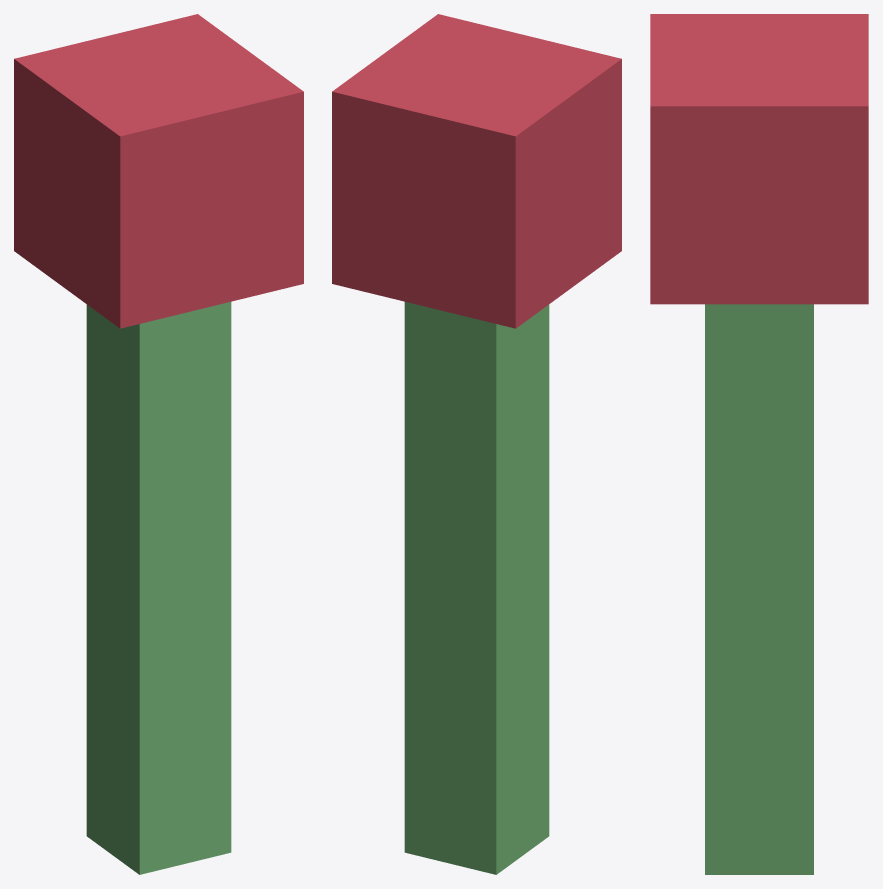
File: flower_1.glb
3 renders of one model, left to right at view 1: azimuth 30°, elevation 25°; view 2: azimuth 150°, elevation 25°; view 3: azimuth 270°, elevation 25°, orthographic. The views are drawn at different scales.
Parts seen in each view (by area): view 1: Mesh_Mesh_head_geo.001_lambert2SG.001; view 2: Mesh_Mesh_head_geo.001_lambert2SG.001; view 3: Mesh_Mesh_head_geo.001_lambert2SG.001.
Boxes of the visible parts, left/top/right/bottom form: Mesh_Mesh_head_geo.001_lambert2SG.001: left=14, top=14, right=303, bottom=874; Mesh_Mesh_head_geo.001_lambert2SG.001: left=332, top=14, right=621, bottom=874; Mesh_Mesh_head_geo.001_lambert2SG.001: left=650, top=14, right=868, bottom=874.
Bounding box in the file's own units: 4 × 16 × 4.
